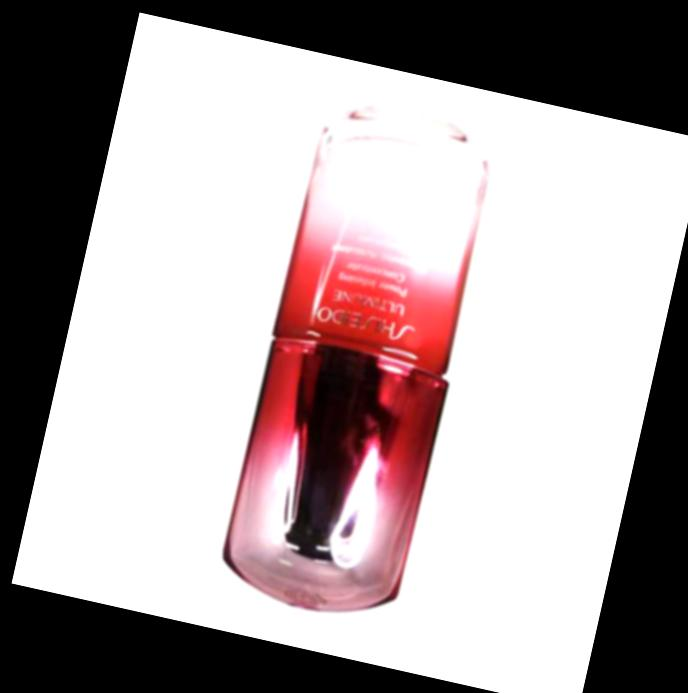cosmetic: (209, 93, 506, 633)
